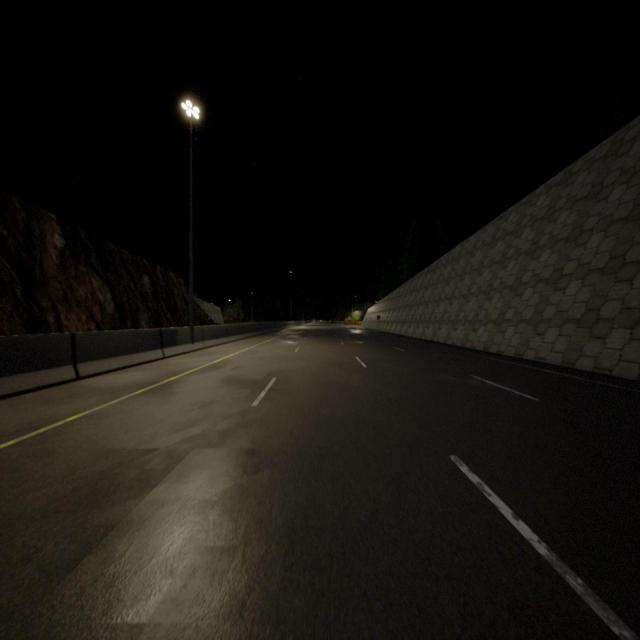Traffic_Signs: (376, 315, 381, 320)
